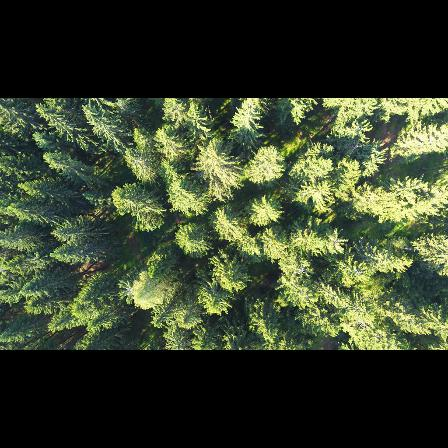Sick: (116, 278, 139, 305)
